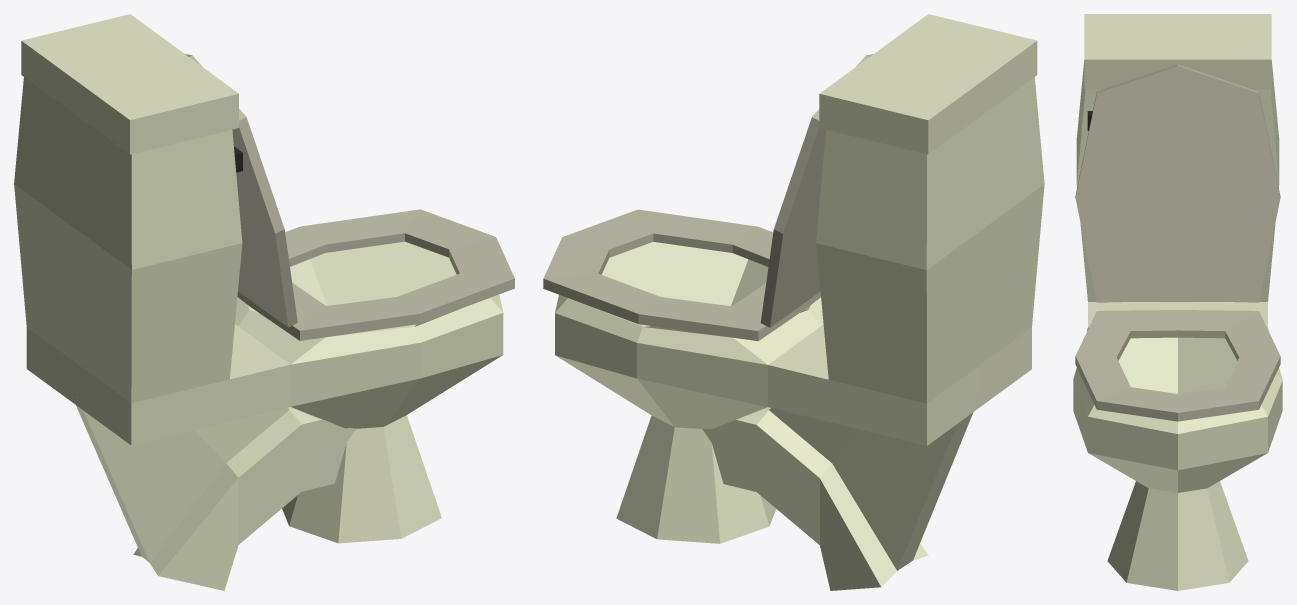
The model's file is Toilet.fbx.
3 renders of one model, left to right at view 1: azimuth 30°, elevation 25°; view 2: azimuth 150°, elevation 25°; view 3: azimuth 270°, elevation 25°, orthographic. The views are drawn at different scales.
Visible parts, largest first — view 1: Toilet; view 2: Toilet; view 3: Toilet.
Part boxes in pixels (bbox=[...]): Toilet: bbox=[14, 14, 514, 590]; Toilet: bbox=[543, 14, 1044, 590]; Toilet: bbox=[1073, 14, 1282, 590].
Bounding box in the file's own units: 71.67 × 86.33 × 35.78.
